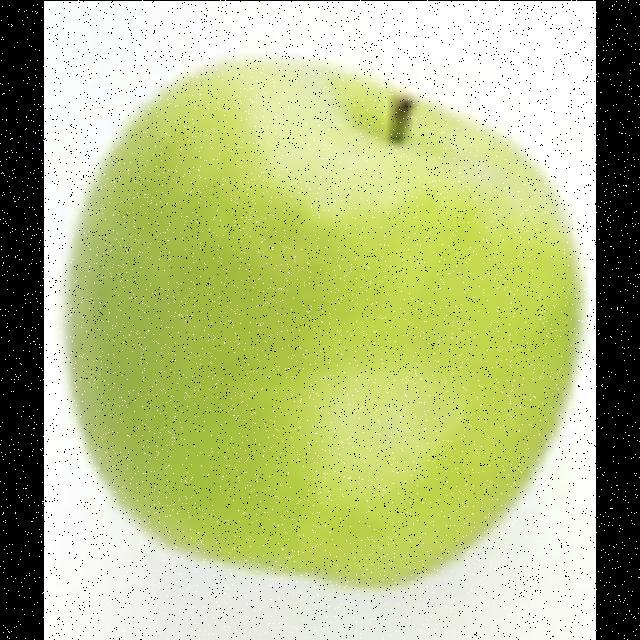Apel Segar: (44, 0, 584, 608)
